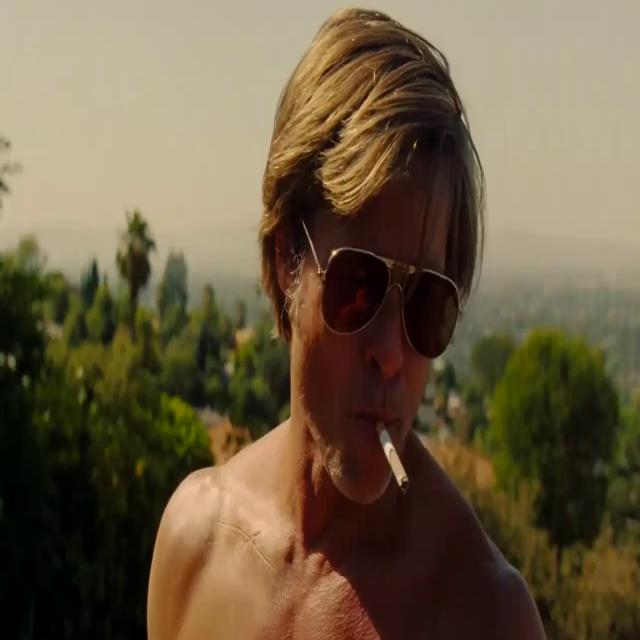Smooking: (378, 420, 416, 506)
